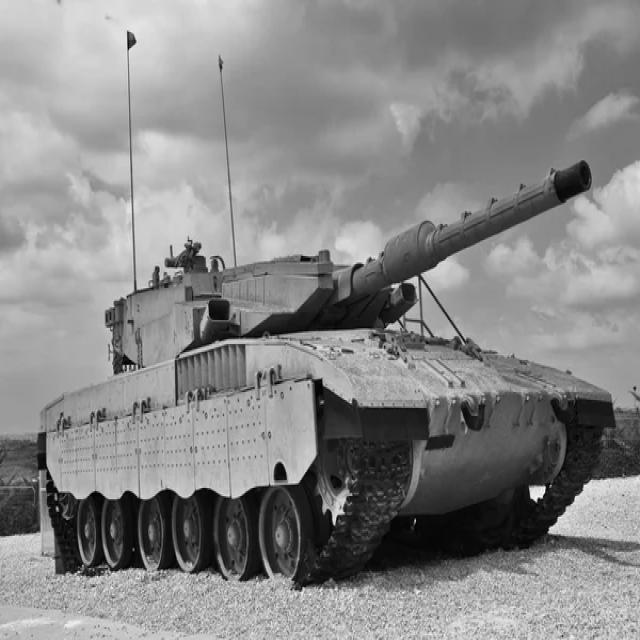Tank: (38, 148, 615, 578)
